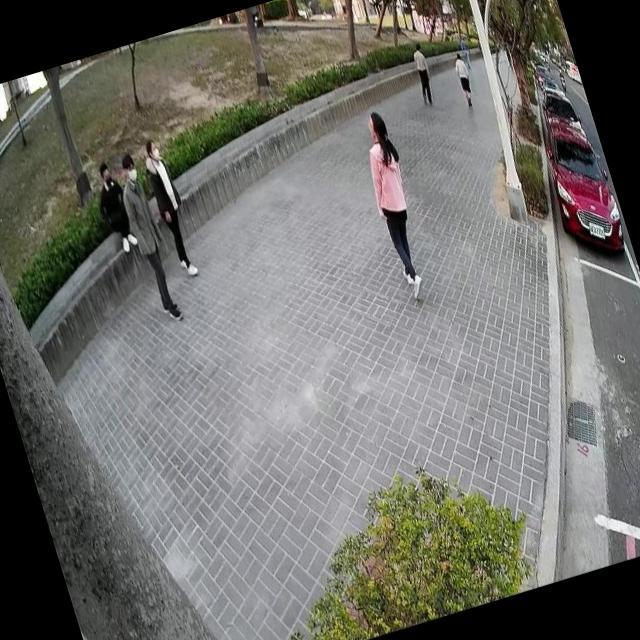person: (344, 99, 437, 297), (107, 148, 188, 328), (133, 129, 205, 281), (82, 154, 142, 258), (404, 38, 440, 107), (446, 45, 481, 112)
